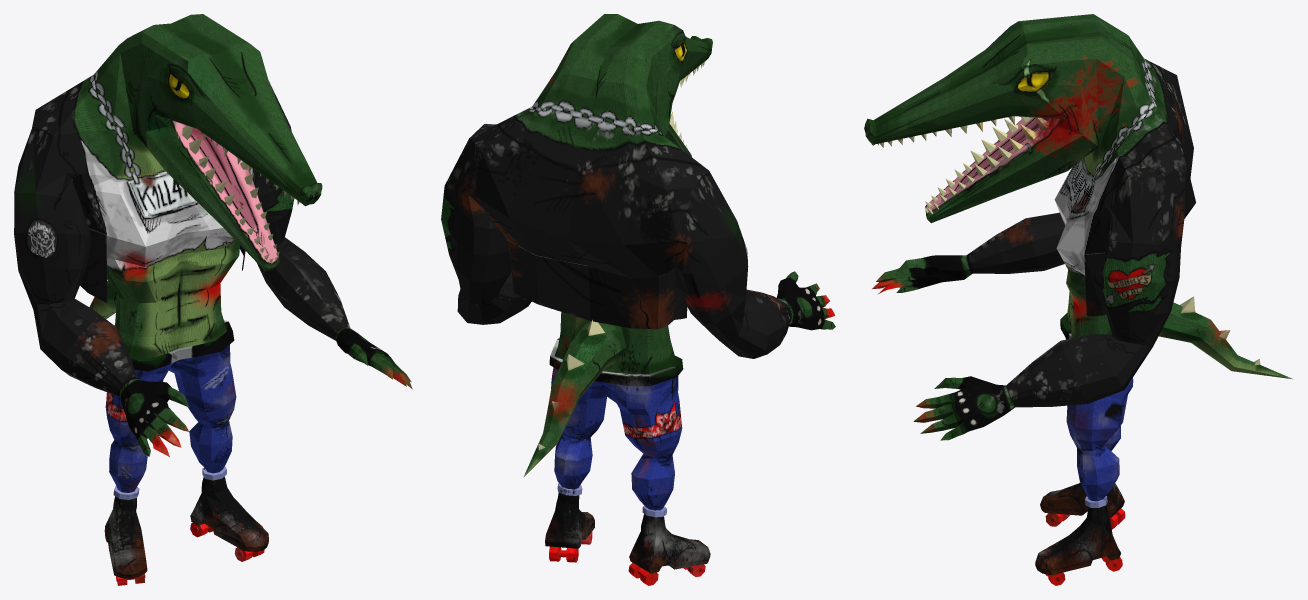
Rendered from cocodrilaBonesSelect_000029.obj.
The picture shows the model from 3 angles, left to right: view 1: azimuth 30°, elevation 25°; view 2: azimuth 150°, elevation 25°; view 3: azimuth 270°, elevation 25°; orthographic projection.
Visible parts, largest first — view 1: Crocodile.002_Cylinder.002; view 2: Crocodile.002_Cylinder.002; view 3: Crocodile.002_Cylinder.002.
Part boxes in pixels (x1,y1,x2,y2): Crocodile.002_Cylinder.002: (14,14,412,585); Crocodile.002_Cylinder.002: (441,14,835,585); Crocodile.002_Cylinder.002: (864,14,1292,585).
Bounding box in the file's own units: 4.04 × 6.72 × 4.97.
